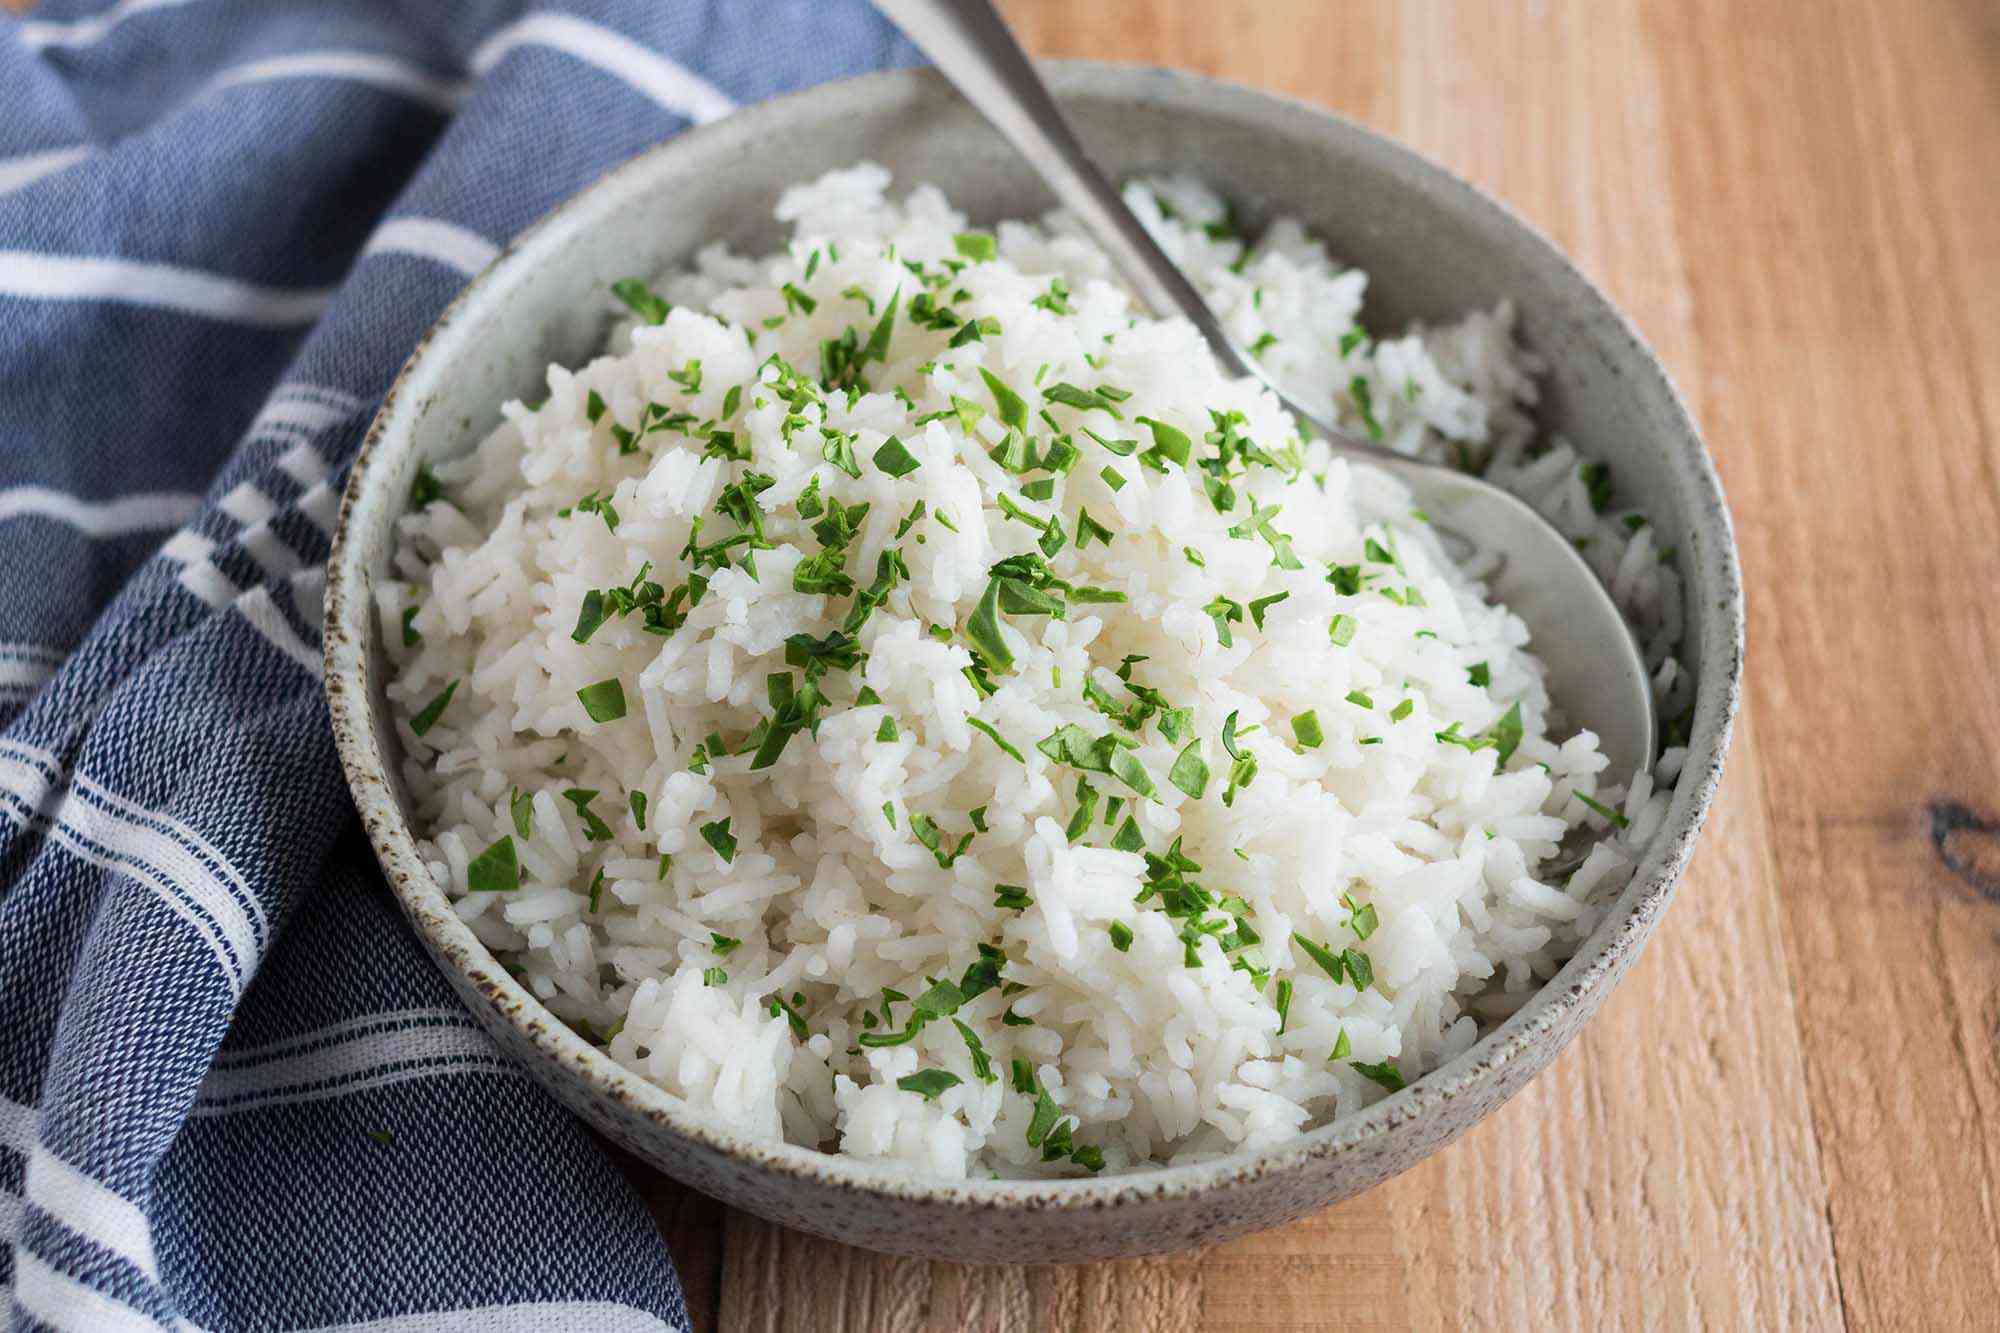Nasi Putih: (213, 60, 1753, 1175)
